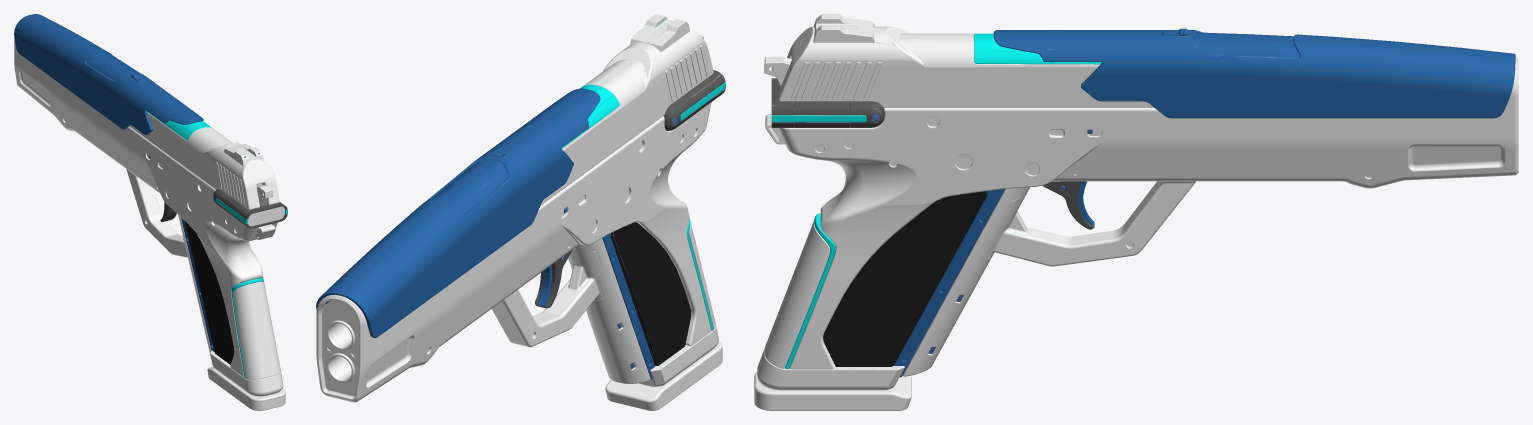
Rendered from Sci_Fi-Pistol.fbx.
3 views of the same model, side by side, from view 1: azimuth 30°, elevation 25°; view 2: azimuth 150°, elevation 25°; view 3: azimuth 270°, elevation 25° (orthographic). The views are drawn at different scales.
Visible parts, largest first — view 1: Sci_Fi_Pistol; view 2: Sci_Fi_Pistol; view 3: Sci_Fi_Pistol.
Boxes of the visible parts, x1=… form: Sci_Fi_Pistol: x1=14, y1=14, x2=287, y2=410; Sci_Fi_Pistol: x1=316, y1=14, x2=725, y2=410; Sci_Fi_Pistol: x1=754, y1=14, x2=1518, y2=410.
Size of the model in its own units: 7.99 by 43.93 by 80.81.
1 material, 1 textured.
